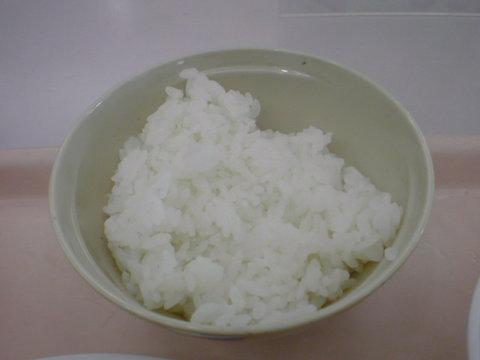rice: (104, 68, 401, 330)
